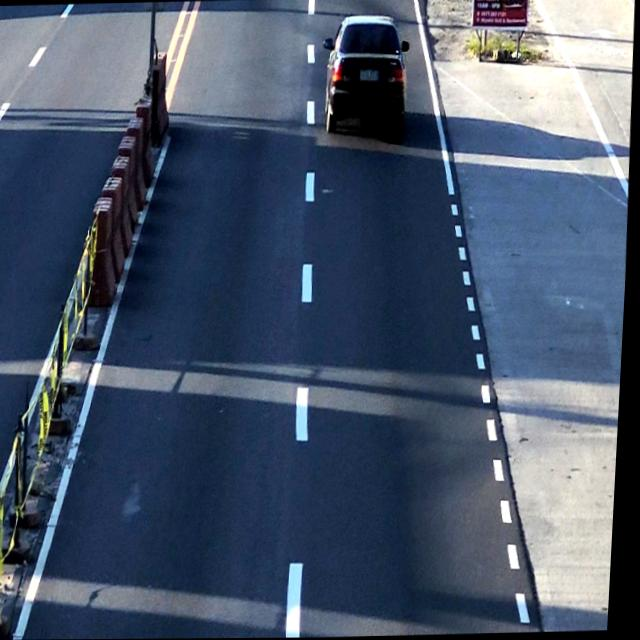Car: (321, 12, 411, 136)
License-Plate: (360, 65, 380, 83)
